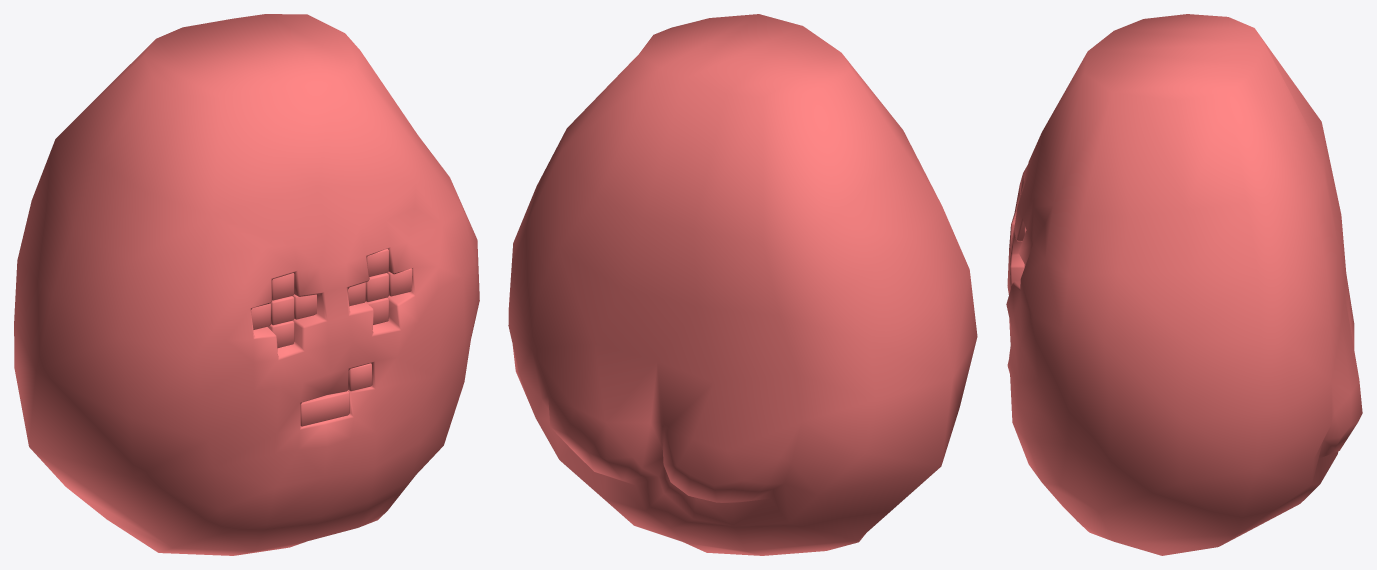
Rendered from CommonStohn.fbx.
3 views of the same model, side by side, from view 1: azimuth 30°, elevation 25°; view 2: azimuth 150°, elevation 25°; view 3: azimuth 270°, elevation 25° (orthographic). The views are drawn at different scales.
Parts seen in each view (by area): view 1: CommonStohn; view 2: CommonStohn; view 3: CommonStohn.
Boxes of the visible parts, bbox=[...] form: CommonStohn: bbox=[14, 14, 479, 555]; CommonStohn: bbox=[508, 14, 977, 555]; CommonStohn: bbox=[1006, 14, 1362, 555].
Size of the model in its own units: 0.0706 by 0.0749 by 0.0532.
